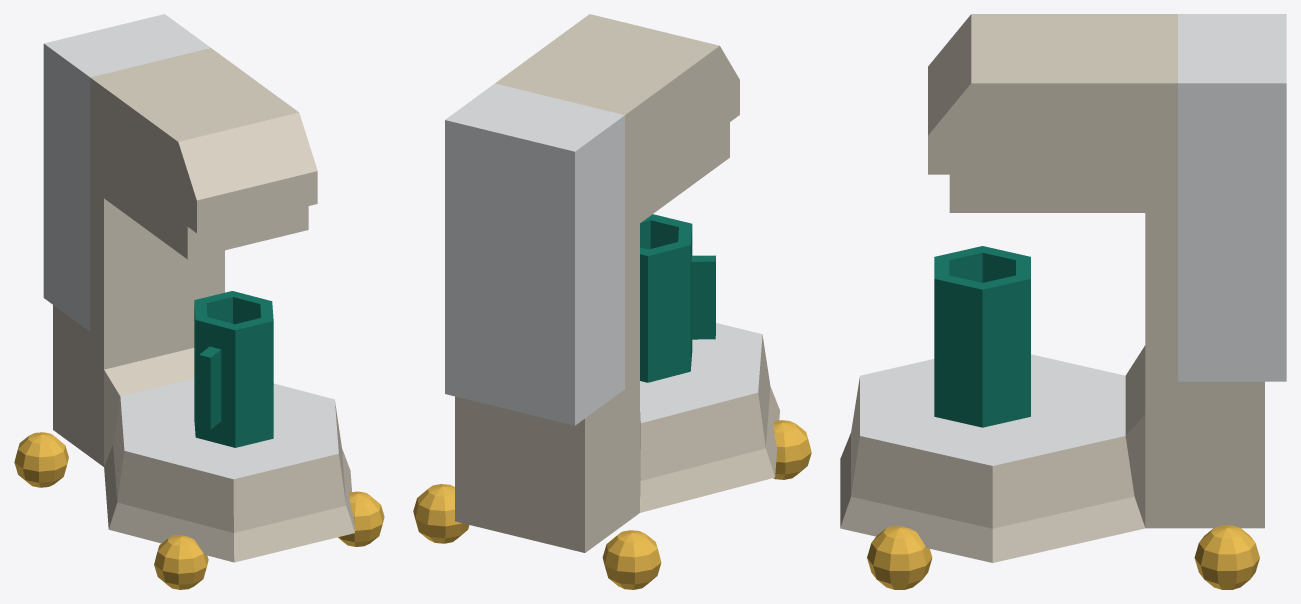
Rendered from coffee_c.glb.
3 views of the same model, side by side, from view 1: azimuth 30°, elevation 25°; view 2: azimuth 150°, elevation 25°; view 3: azimuth 270°, elevation 25° (orthographic). The views are drawn at different scales.
Visible parts, largest first — view 1: body; view 2: body; view 3: body.
Boxes of the visible parts, bbox=[...] form: body: bbox=[14, 14, 384, 589]; body: bbox=[413, 14, 811, 589]; body: bbox=[840, 14, 1286, 589].
Bounding box in the file's own units: 0.22 × 0.362 × 0.3.
